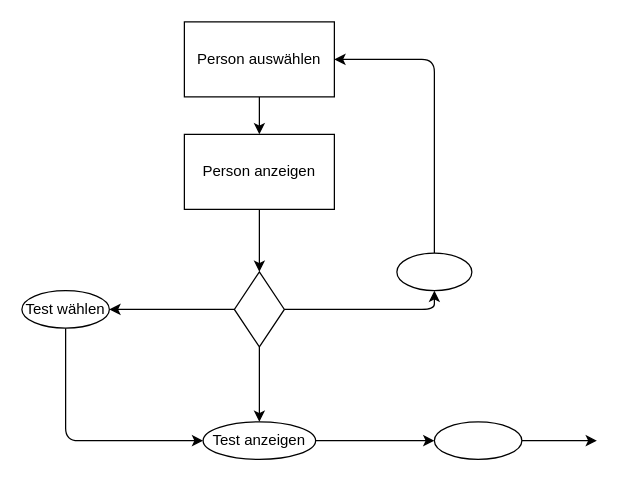
This 629x481 diagram has some shape labels left out. The shapes that lost their labels are listed below. From the top down, each one's box as (x1, y1, x2, y2) in pixels, then its label:
(396, 252, 472, 291): Fehler
(433, 421, 522, 459): HR anzeigen
